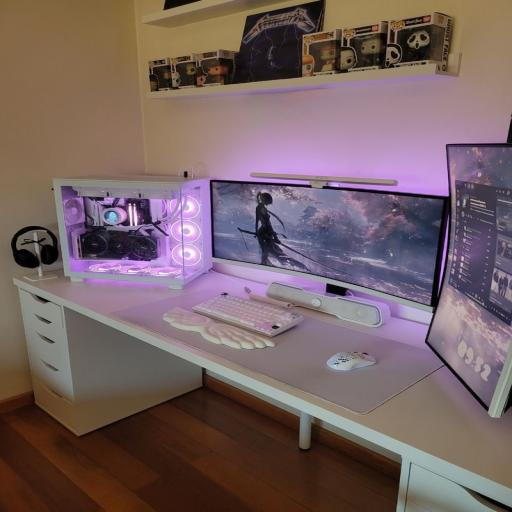computer case: (53, 176, 211, 288)
monitor: (211, 181, 444, 304), (427, 144, 511, 418)
